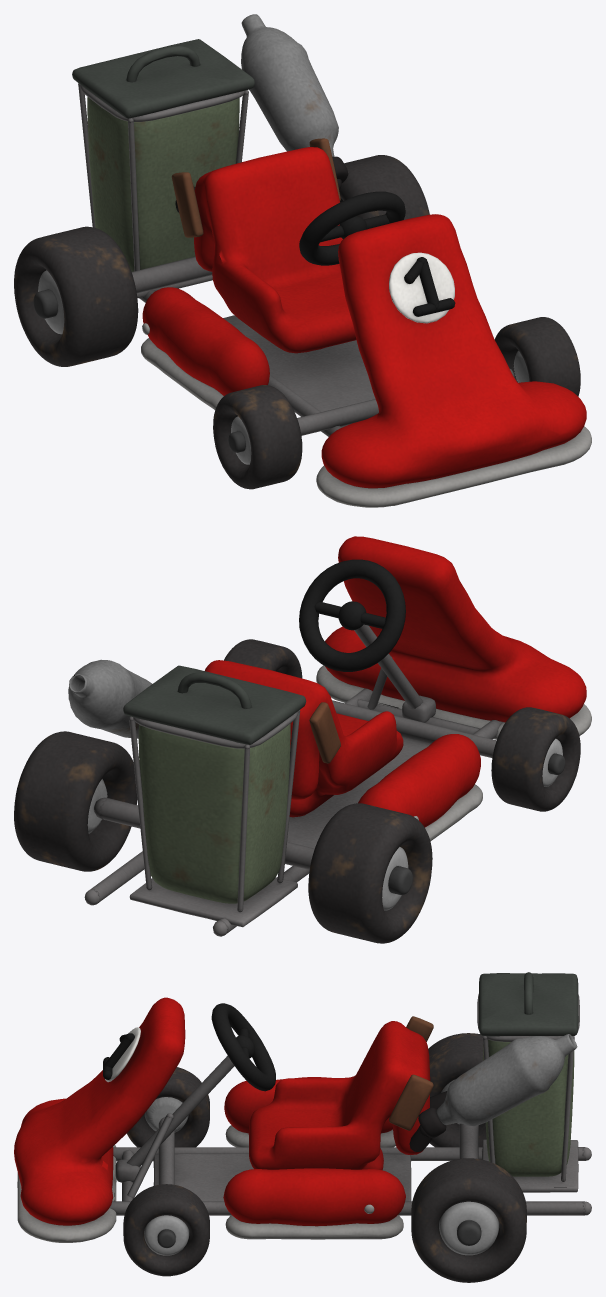
File: kart.glb
The picture shows the model from 3 angles, top to bottom: view 1: azimuth 30°, elevation 25°; view 2: azimuth 150°, elevation 25°; view 3: azimuth 270°, elevation 25°; orthographic projection. The views are drawn at different scales.
Parts seen in each view (by area): view 1: body, wheel_RR, wheel_FR, wheel_FL, steering_wheel, wheel_RL; view 2: body, wheel_RR, wheel_RL, wheel_FR, steering_wheel, wheel_FL; view 3: body, wheel_RL, wheel_FL, wheel_FR, steering_wheel, wheel_RR.
Boxes of the visible parts, bbox=[...] form: body: bbox=[72, 14, 591, 507]; wheel_RR: bbox=[14, 226, 138, 366]; wheel_FR: bbox=[213, 385, 302, 489]; wheel_FL: bbox=[494, 317, 580, 396]; steering_wheel: bbox=[299, 191, 405, 265]; wheel_RL: bbox=[339, 155, 429, 219]; body: bbox=[68, 536, 591, 936]; wheel_RR: bbox=[308, 803, 432, 943]; wheel_RL: bbox=[14, 731, 137, 871]; wheel_FR: bbox=[491, 707, 580, 811]; steering_wheel: bbox=[299, 559, 405, 671]; wheel_FL: bbox=[224, 639, 302, 678]; body: bbox=[14, 972, 591, 1242]; wheel_RL: bbox=[411, 1158, 526, 1282]; wheel_FL: bbox=[123, 1184, 209, 1276]; wheel_FR: bbox=[127, 1067, 209, 1147]; steering_wheel: bbox=[211, 1003, 275, 1091]; wheel_RR: bbox=[428, 1033, 486, 1147].
Size of the model in its own units: 1.16 by 0.7585 by 1.8.
Materials: 1 (1 with a texture image).
